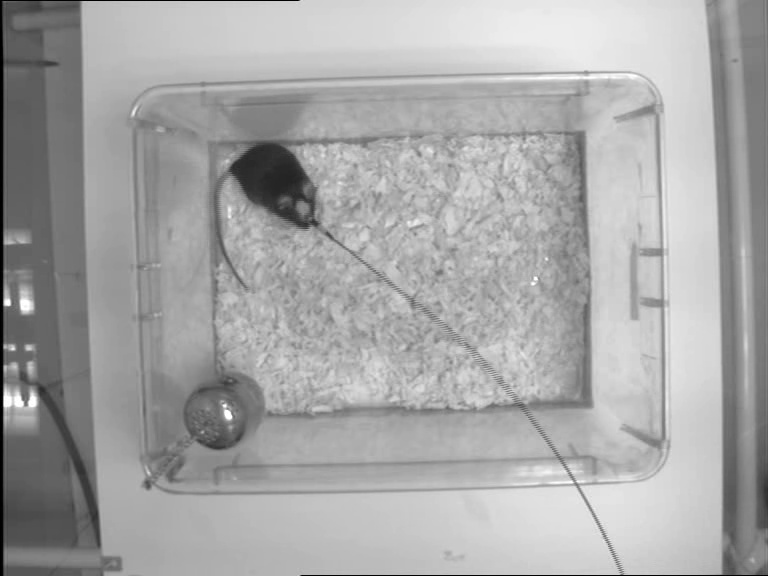mice: (213, 139, 320, 293)
